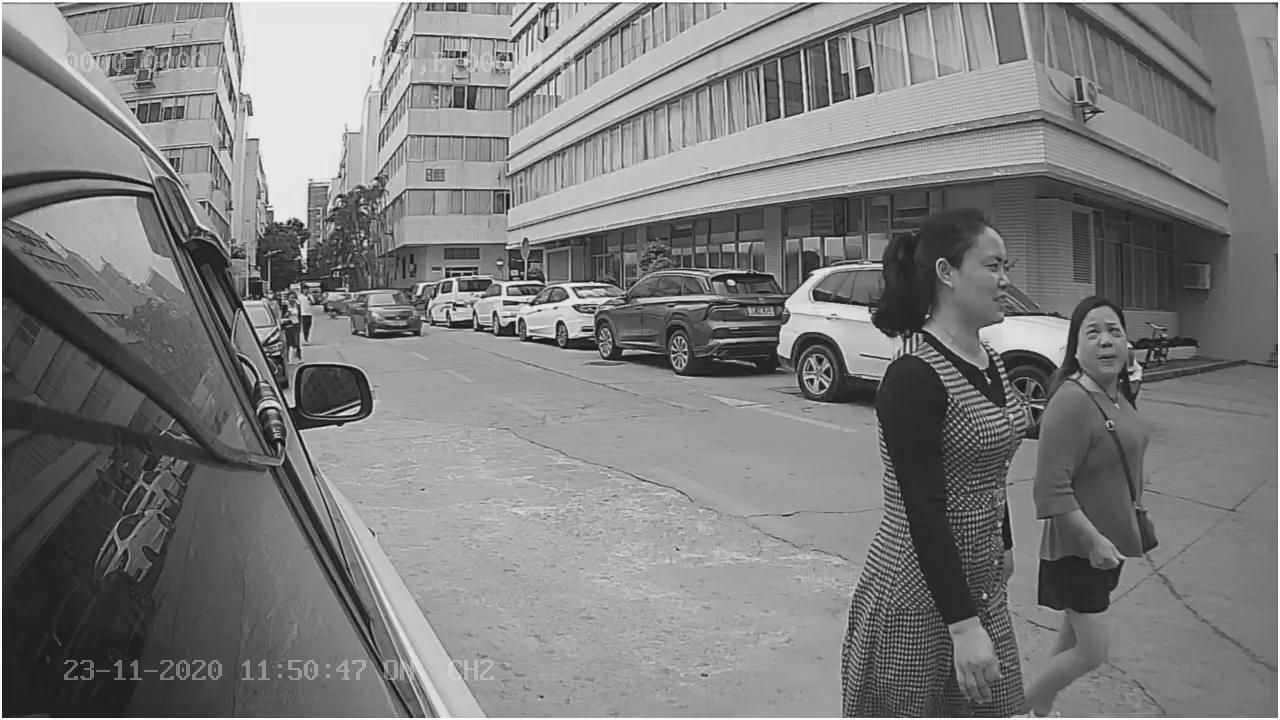person: (854, 207, 1034, 540)
